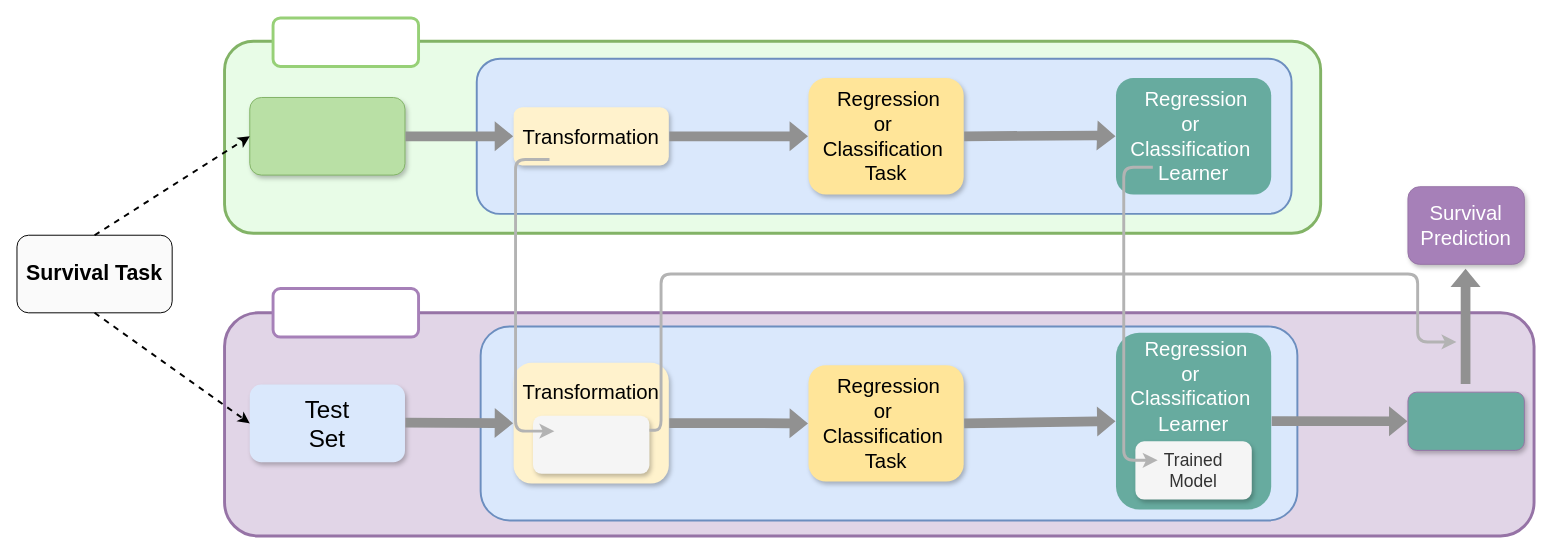
The diagram is 1552 pixels wide and 554 high, and some of its shapes have lost their labels. The shapes that lost their labels are listed below. From the top down, each one's centre as x and y in pixels, then its label:
At [345,41]: "Train".
At [328,137]: "Train Set".
At [345,312]: "Predict".
At [1466,422]: "Prediction".
At [592,445]: "Trafo Parameters".
